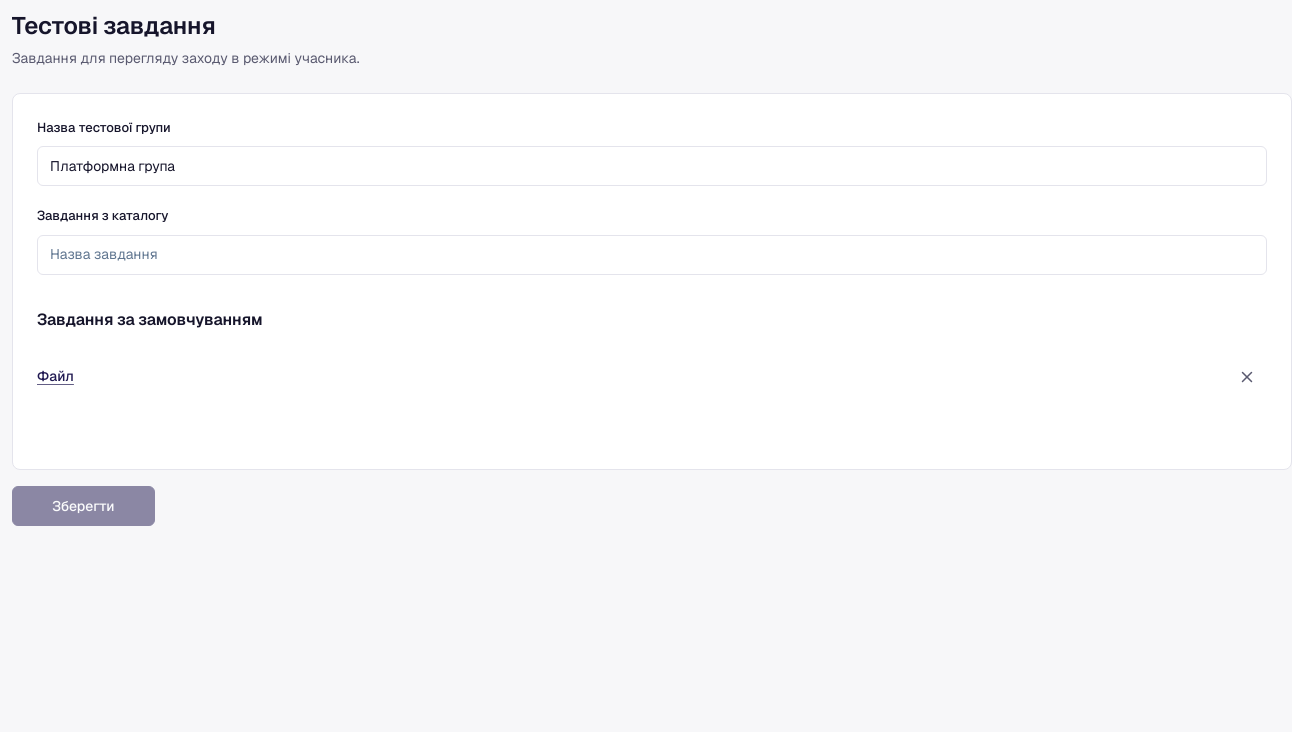
Test: shows no permanent catalog list; the dropdown opens on input with results
Type "Сер" into the dropdown.
click(652, 255); type("Сер")  # box [37, 235, 1267, 275]
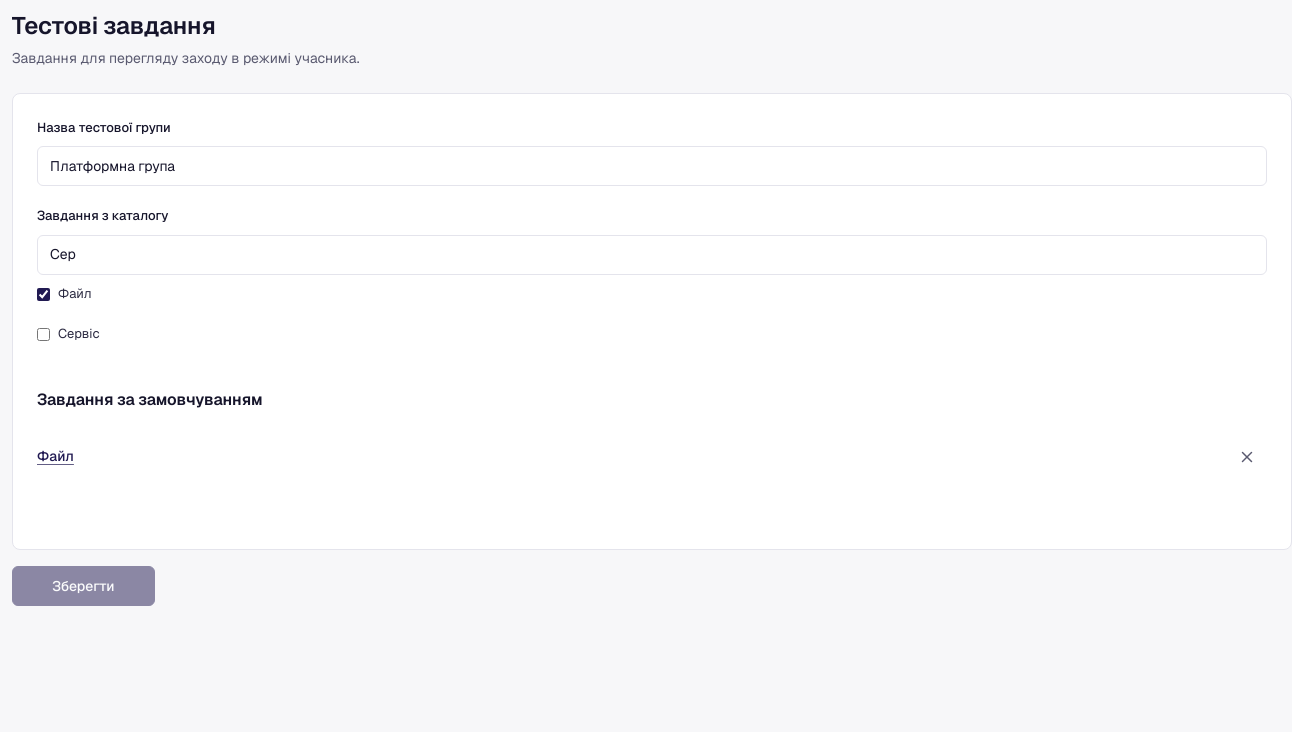
expect the list "Файл Сервіс" is shown: met, box [37, 286, 100, 342]
expect the checkbox labelled "Сервіс" is shown: met, box [37, 328, 50, 341]
